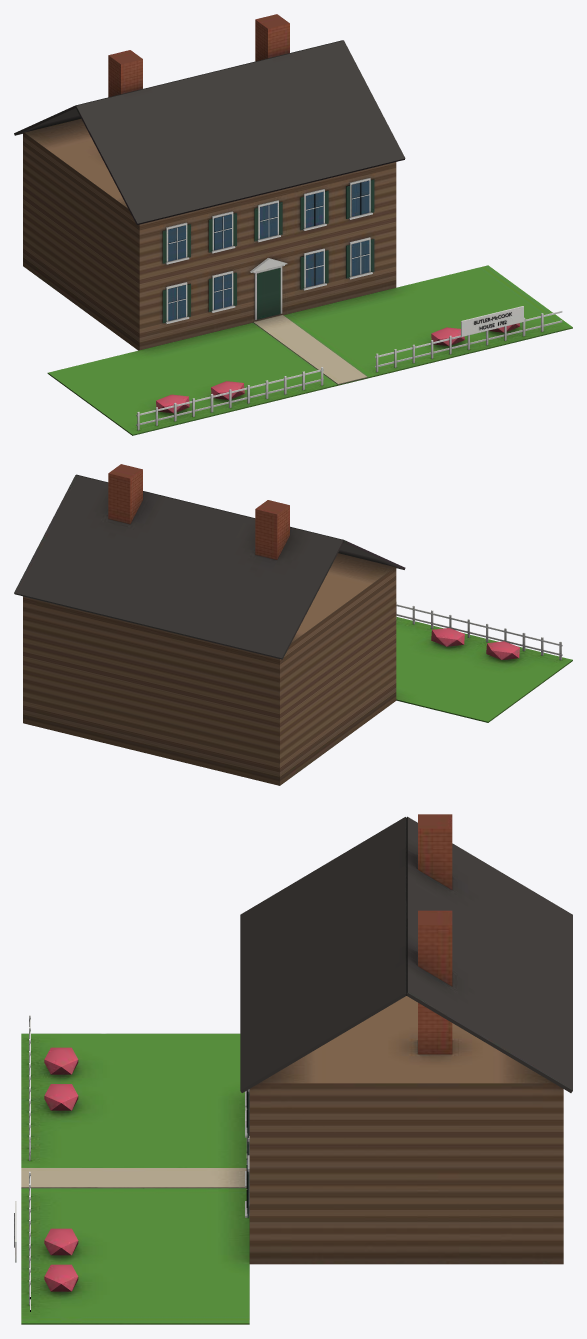
File: butler_mccook.glb
3 views of the same model, one above another, from view 1: azimuth 30°, elevation 25°; view 2: azimuth 150°, elevation 25°; view 3: azimuth 270°, elevation 25° (orthographic). The views are drawn at different scales.
Parts seen in each view (by area): view 1: butler_mccook; view 2: butler_mccook; view 3: butler_mccook.
Boxes of the visible parts, x1=… form: butler_mccook: x1=14, y1=14, x2=572, y2=435; butler_mccook: x1=14, y1=464, x2=572, y2=785; butler_mccook: x1=14, y1=814, x2=572, y2=1324.
Size of the model in its own units: 24 by 12.02 by 19.59.
Materials: 1 (1 with a texture image).
